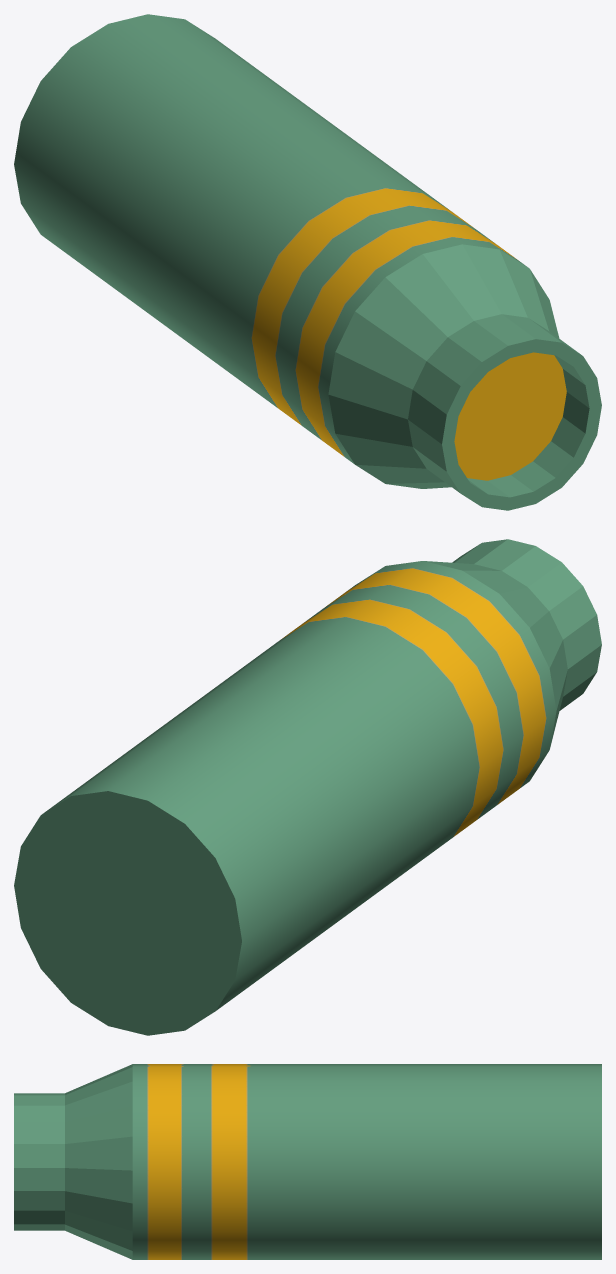
Rendered from ArmCannon.FBX.
3 renders of one model, top to bottom at view 1: azimuth 30°, elevation 25°; view 2: azimuth 150°, elevation 25°; view 3: azimuth 270°, elevation 25°, orthographic. The views are drawn at different scales.
Parts seen in each view (by area): view 1: Arm_Cannon; view 2: Arm_Cannon; view 3: Arm_Cannon.
Part boxes in pixels (bbox=[...]): Arm_Cannon: bbox=[14, 14, 601, 510]; Arm_Cannon: bbox=[14, 539, 601, 1035]; Arm_Cannon: bbox=[14, 1064, 601, 1259].
Bounding box in the file's own units: 5.64 × 5.55 × 16.87.
